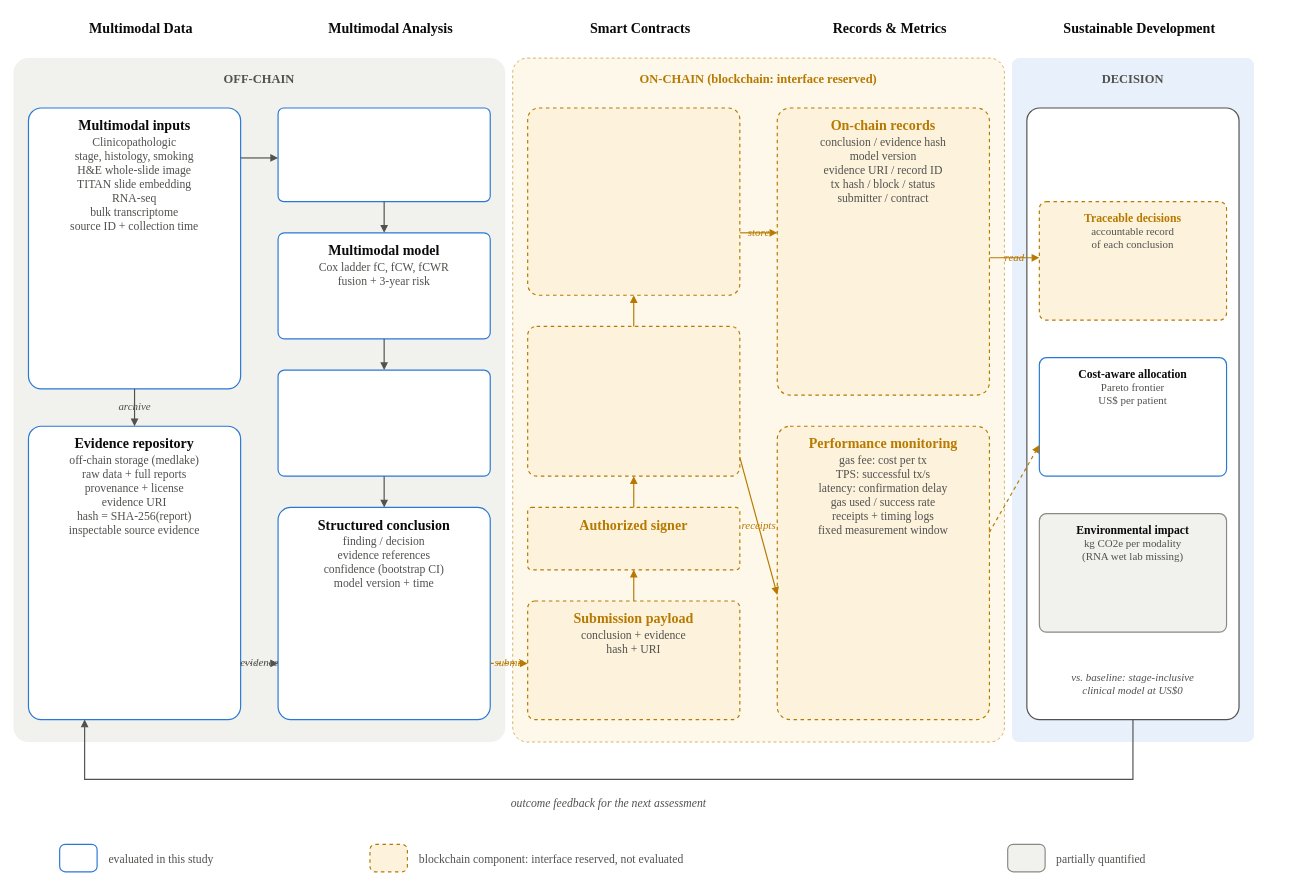
This 1298x887 diagram has some shape labels left out. The box of each missing label's shape, as (x1, y1, x2, y2) in pixels:
Acquisition policy VoI / random / static budgets bW, bR: (277, 369, 490, 476)
Blockchain confirmed transaction compact record linked to off-chain evidence: (527, 107, 740, 295)
Preprocessing clean, align, fold-local PCA: (277, 107, 490, 202)
Smart contract check submitter + schema store conclusion + hash emit event: (527, 325, 740, 476)
Sustainability decision support: (1026, 107, 1239, 720)
